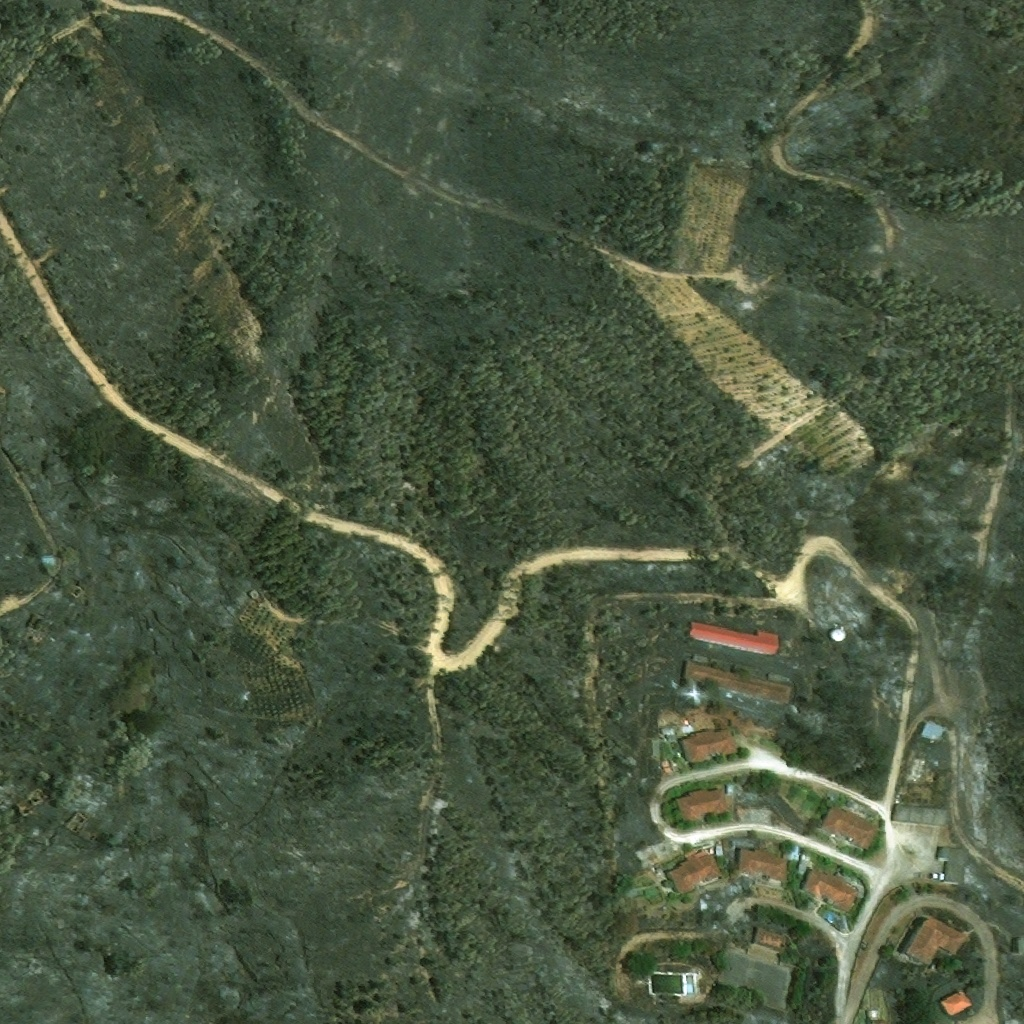0 no-damage: (681, 658, 792, 704), (686, 621, 781, 657), (903, 917, 968, 965), (664, 844, 724, 895), (818, 804, 876, 851), (802, 869, 860, 914), (680, 726, 740, 764), (674, 786, 731, 826), (736, 848, 787, 882), (888, 802, 949, 827), (935, 846, 966, 884), (939, 986, 974, 1017), (916, 721, 944, 741), (829, 624, 845, 641), (799, 853, 812, 872), (786, 844, 800, 860), (725, 784, 737, 794), (866, 1010, 881, 1018), (716, 842, 724, 856)
2 major-damage: (750, 925, 787, 953), (662, 760, 673, 773), (662, 726, 676, 735), (682, 725, 695, 734), (672, 760, 679, 771)
3 destroyed: (844, 798, 872, 815), (623, 884, 640, 899), (652, 739, 661, 757)
4 un-classified: (1010, 936, 1022, 954), (775, 770, 781, 776)
